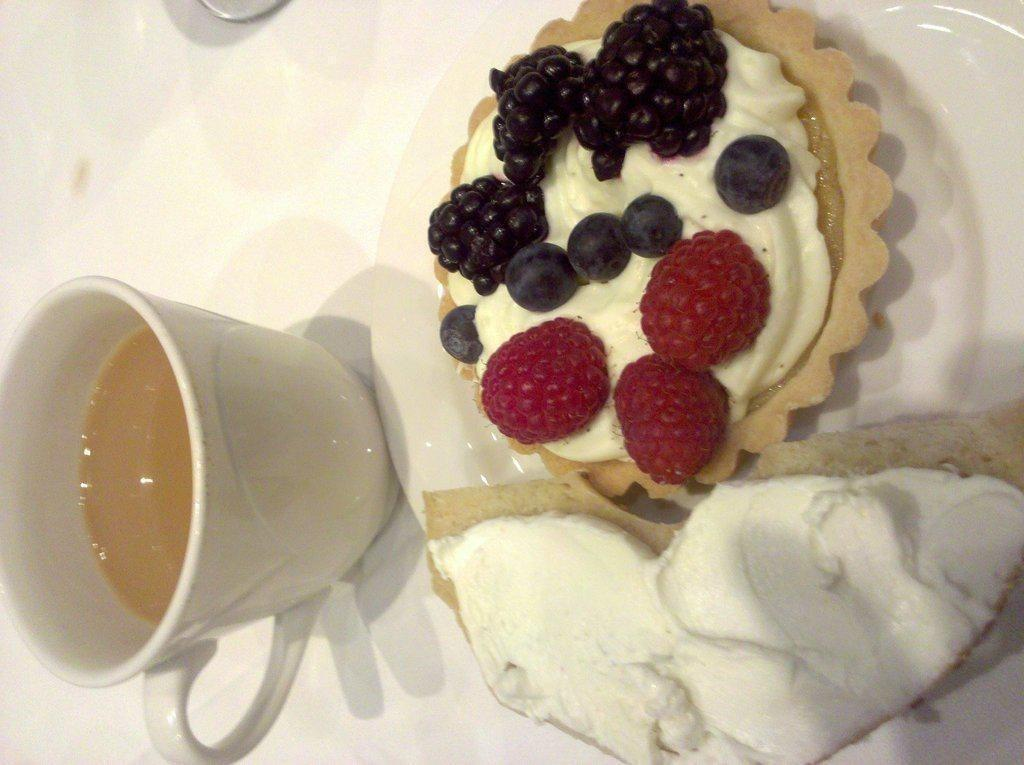cup-handle: (0, 273, 400, 765)
